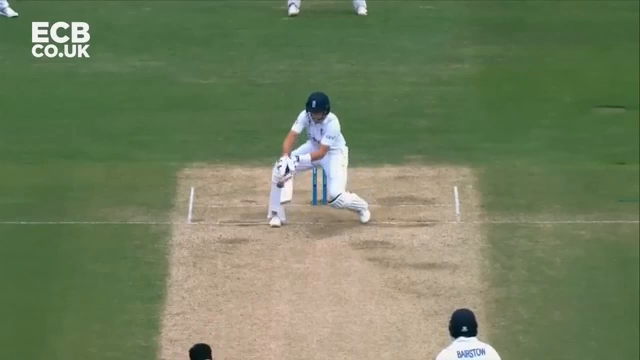batsman: (267, 91, 374, 227)
